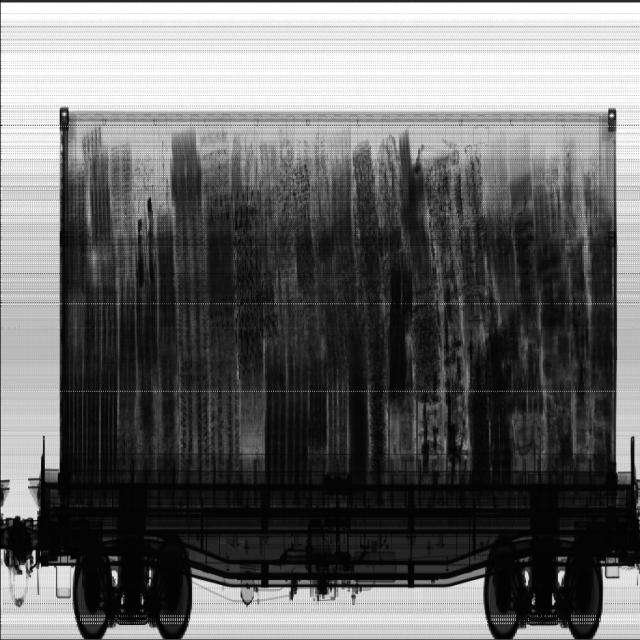fabrics: (296, 163, 435, 492), (40, 115, 116, 302)
